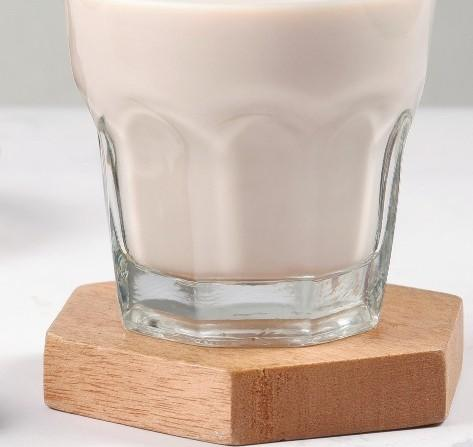produk_susu: (68, 1, 426, 333)
